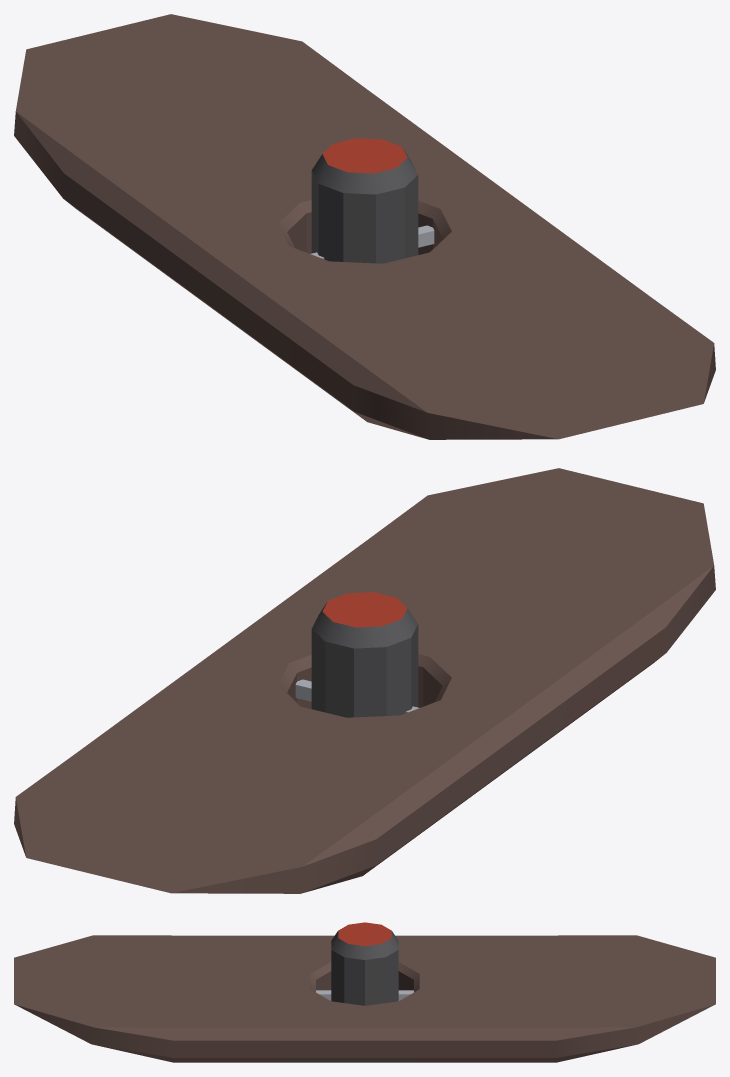
Rendered from rotator.fbx.
The picture shows the model from 3 angles, top to bottom: view 1: azimuth 30°, elevation 25°; view 2: azimuth 150°, elevation 25°; view 3: azimuth 270°, elevation 25°; orthographic projection. The views are drawn at different scales.
Visible parts, largest first — view 1: polySurface39, polySurface37; view 2: polySurface39, polySurface37; view 3: polySurface39, polySurface37.
Boxes of the visible parts, <box> form: polySurface39: <box>14,14,715,439</box>; polySurface37: <box>311,138,418,263</box>; polySurface39: <box>14,468,715,893</box>; polySurface37: <box>311,592,418,717</box>; polySurface39: <box>14,935,715,1062</box>; polySurface37: <box>331,922,398,1005</box>.
Size of the model in its own units: 3.23 by 1.3 by 9.55.
2 materials, 2 textured.
